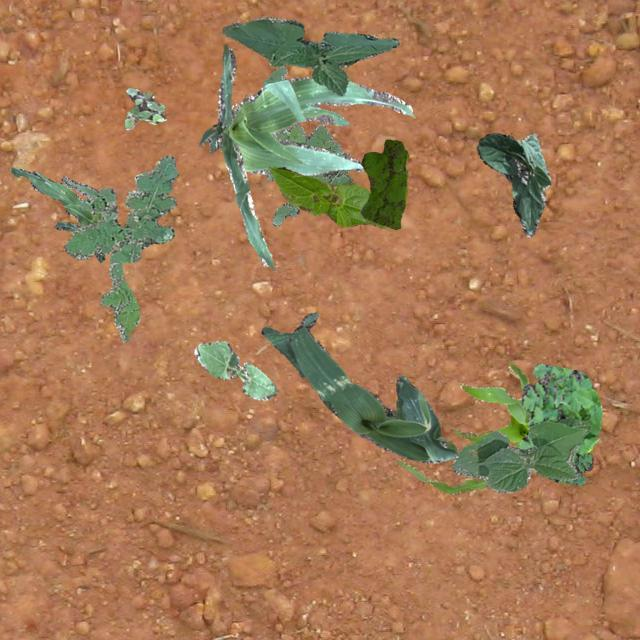crop: (198, 45, 412, 268), (260, 312, 457, 462), (396, 362, 532, 494), (222, 15, 398, 94), (450, 418, 590, 492), (10, 166, 104, 262), (476, 132, 550, 236), (268, 166, 386, 227), (194, 340, 276, 400)
weed: (64, 154, 178, 342), (262, 64, 354, 225), (518, 362, 602, 460), (360, 138, 408, 228), (122, 86, 166, 128), (548, 452, 592, 484)
